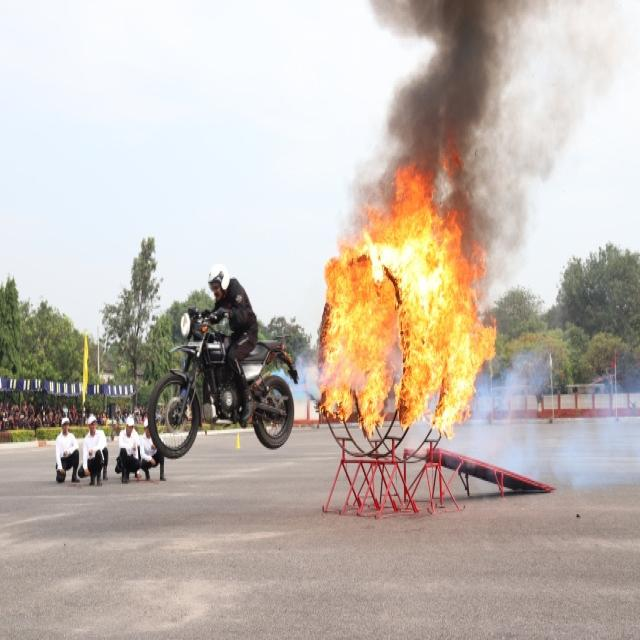fire: (319, 138, 497, 438)
